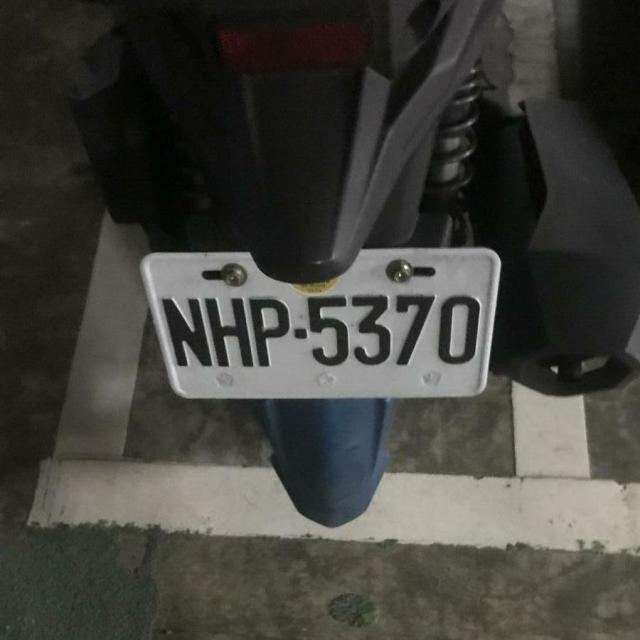W: (133, 226, 511, 418)
